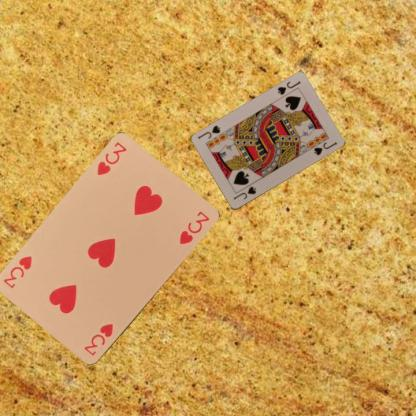3h: (94, 140, 128, 178), (81, 321, 115, 357)
Js: (275, 78, 302, 96), (231, 184, 257, 201)
